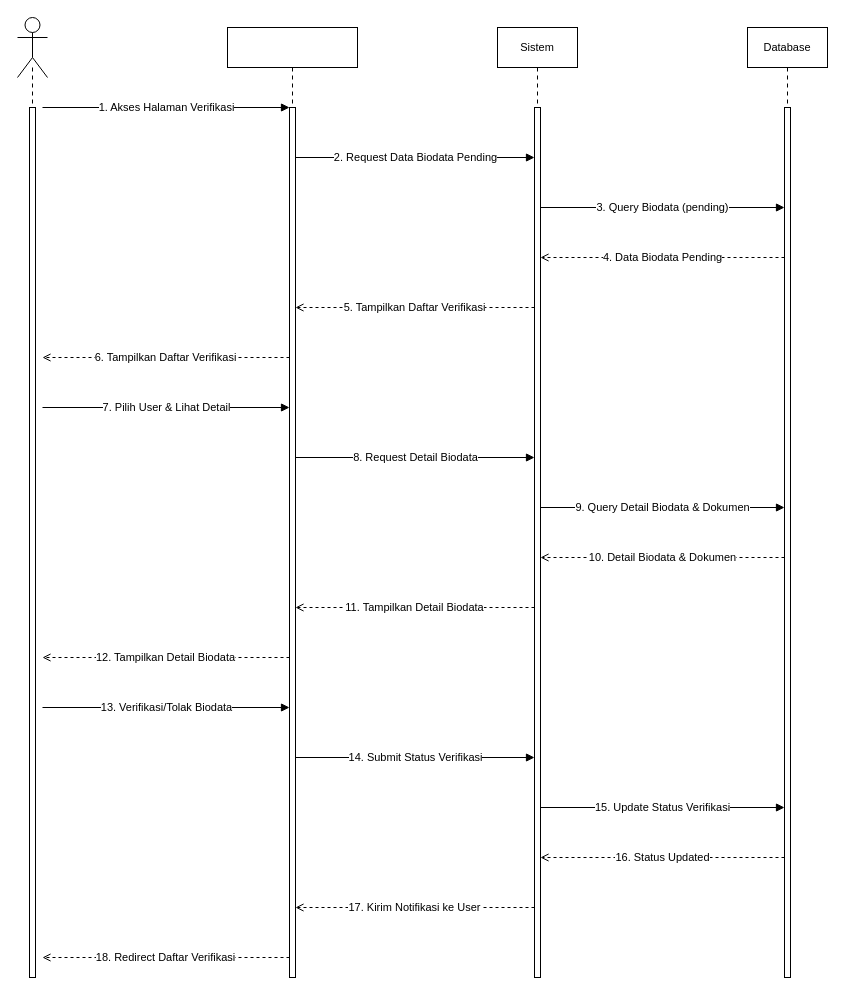
Some shapes in this 845 by 996 pixel diagram are drawn without their labels. Each missing label, with the centre of its shape:
Admin: pixel 32 47
Halaman Verifikasi: pixel 292 47
